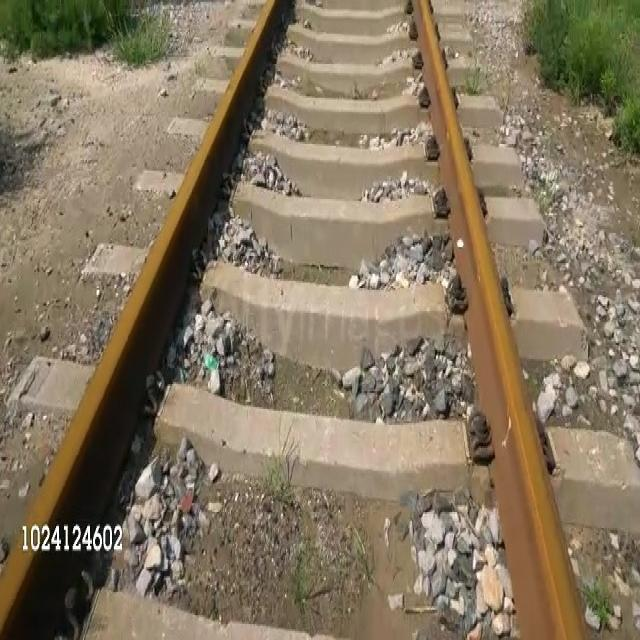Plant: (525, 0, 639, 153), (0, 0, 128, 54), (117, 29, 162, 65), (465, 70, 482, 93)
